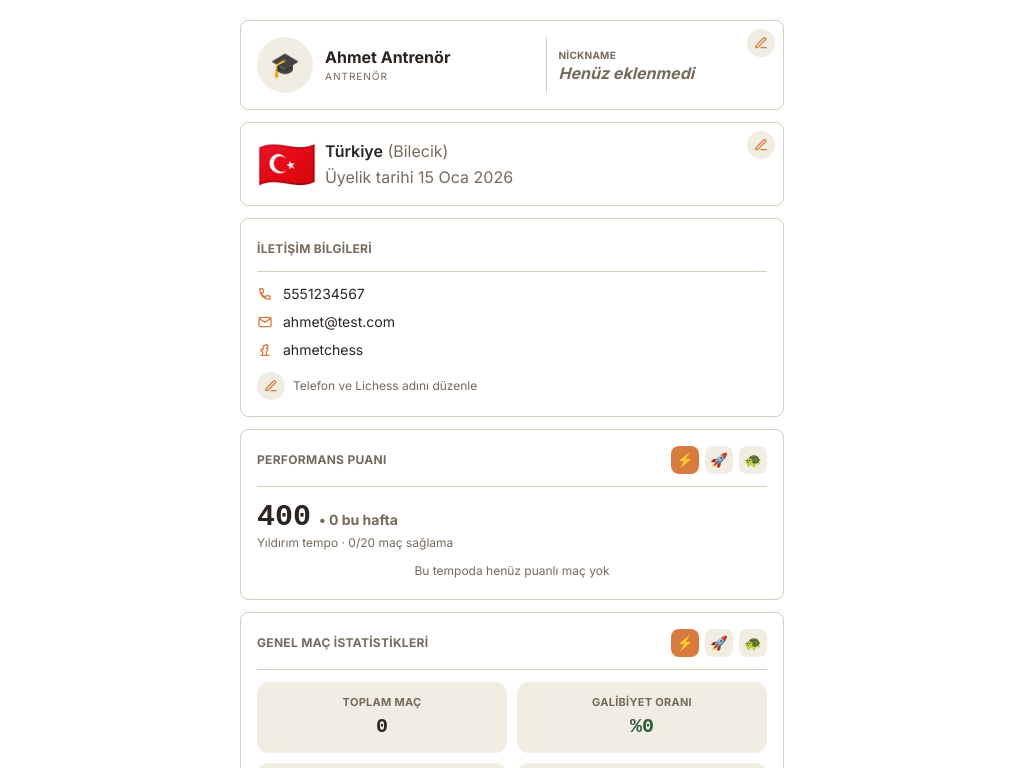
it: Madde 2026-09-11 (Görsel Turu Aşama B / Madde 3 + S3-b): antrenör profil düzenleme › nickname kaydedilince updateTeacherProfile çağrılır ve yeni değer + 3 ay kilidi görünür
The width and height of the screenshot is (1024, 768).
Expected: the text "Ahmet Antrenör" is shown, x1=325 y1=46 x2=450 y2=66
Click the button named "Nickname düzenle": click(761, 43) x1=747 y1=29 x2=775 y2=57
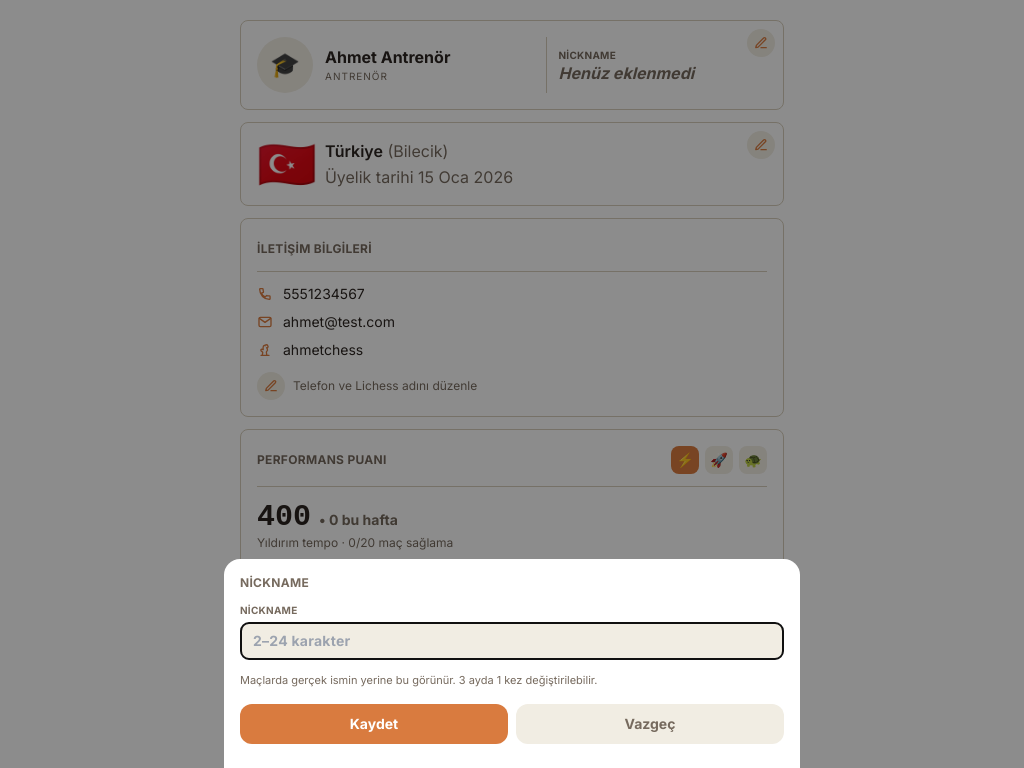
In the field labelled "Nickname": (512, 640) x1=240 y1=622 x2=784 y2=660, type "Hoca"
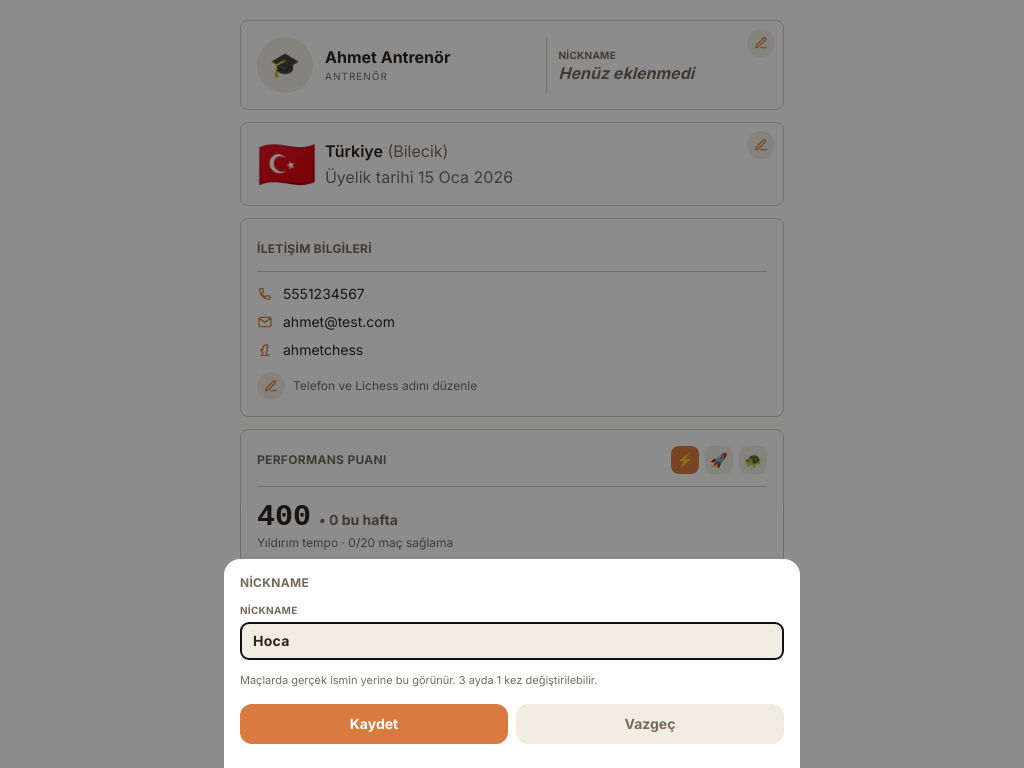
Click the button "Kaydet": click(374, 724) x1=240 y1=704 x2=508 y2=744
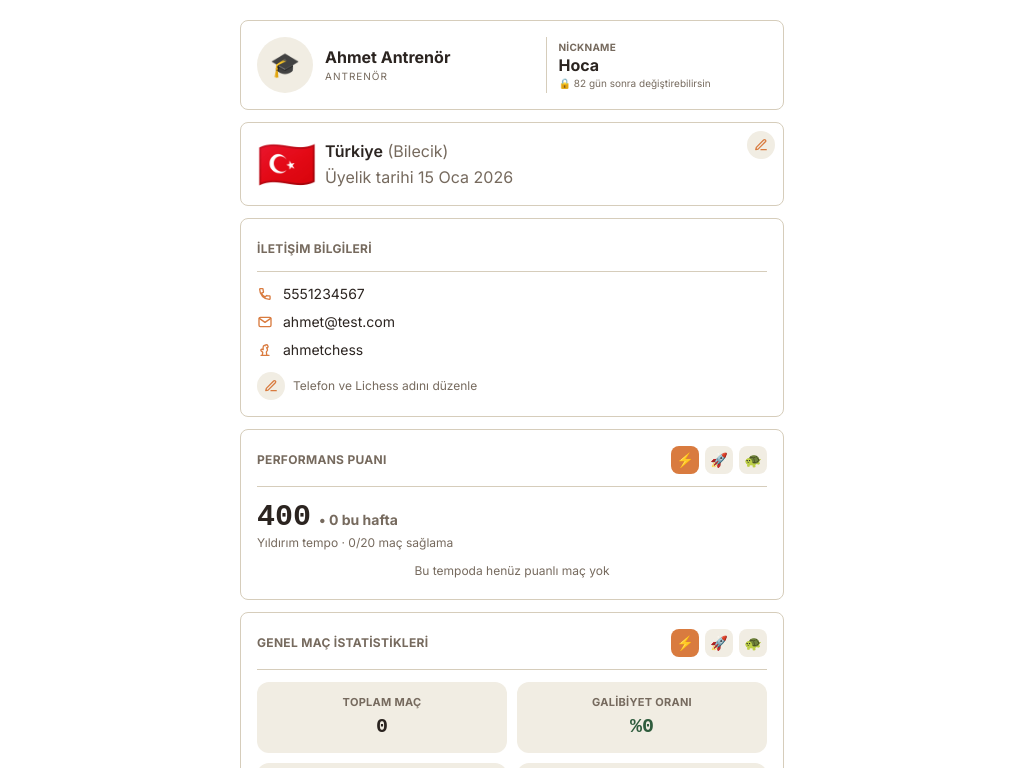
Expected: the text "Hoca" is shown, x1=558 y1=55 x2=599 y2=75
Expected: the text "🔒 82 gün sonra değiştirebilirsin" is shown, x1=558 y1=77 x2=711 y2=89
